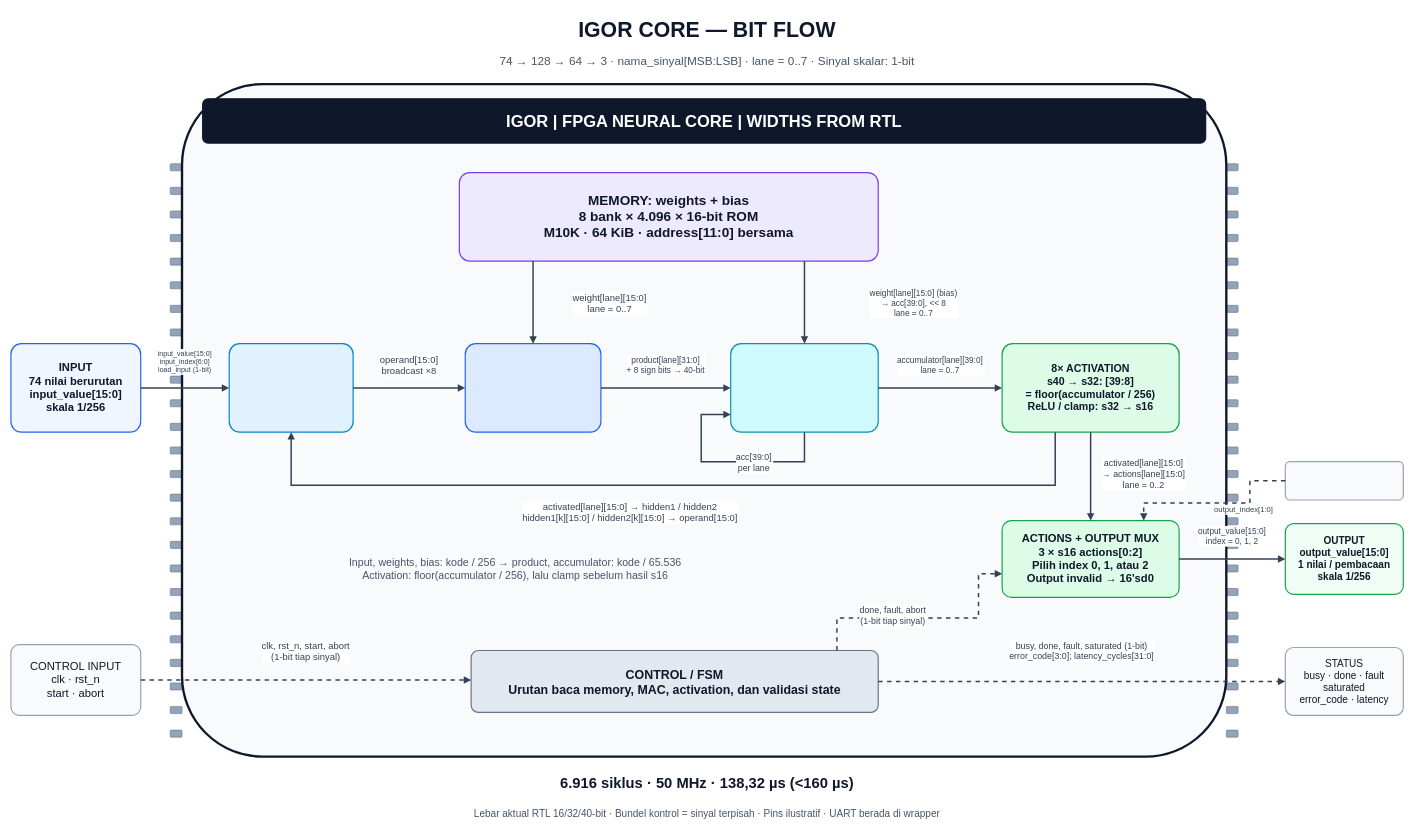
This 1414x835 diagram has some shape labels left out. Here are the shapes that lost their labels. From the top down, the centre of each, then its label:
At (290,387): "DATA STORAGE 74 × s16 input 128 × s16 hidden1 64 × s16 hidden2".
At (532,387): "8× MULTIPLIER s16 input × s16 weights = s32 product".
At (804,387): "8× ACCUMULATOR s40 + sign-extended product = s40 mac_sum Register s40 / lane".
At (1344,480): "SELECT output_index[1:0]".
